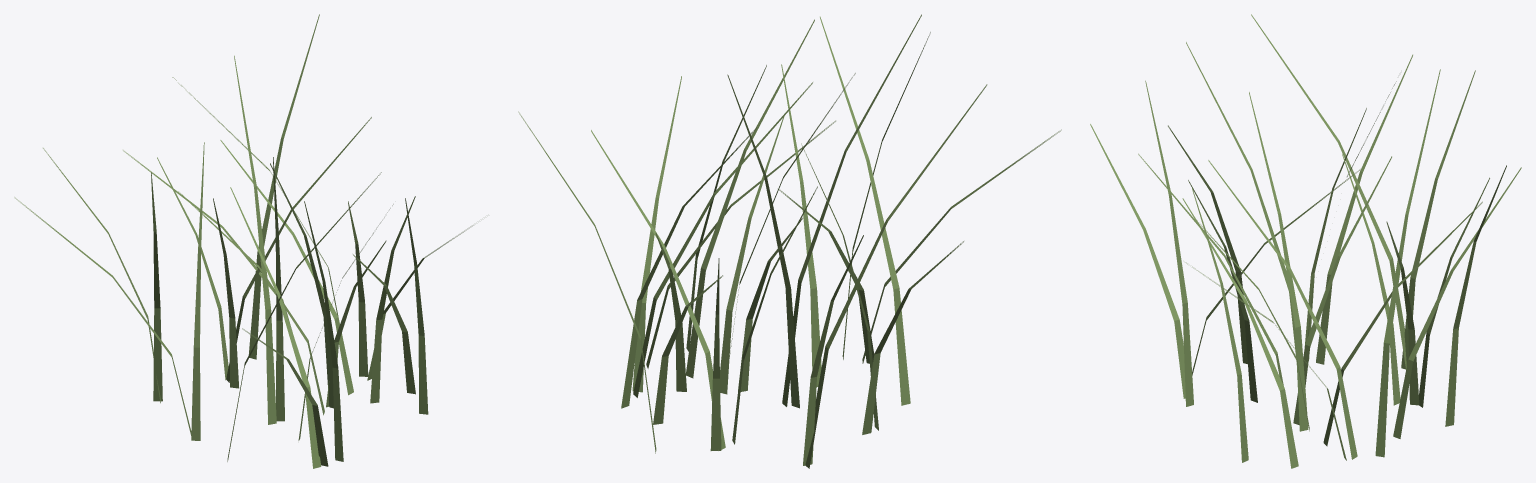
Rendered from SM_GrassTuft.fbx.
The picture shows the model from 3 angles, left to right: view 1: azimuth 30°, elevation 25°; view 2: azimuth 150°, elevation 25°; view 3: azimuth 270°, elevation 25°; orthographic projection. The views are drawn at different scales.
Visible parts, largest first — view 1: SM_GrassTuft; view 2: SM_GrassTuft; view 3: SM_GrassTuft.
Boxes of the visible parts, box(x1,y1,x2,y2) form: SM_GrassTuft: box(14, 14, 473, 468); SM_GrassTuft: box(518, 14, 1061, 468); SM_GrassTuft: box(1090, 14, 1521, 468).
Bounding box in the file's own units: 0.8891 × 0.77 × 0.8918.
